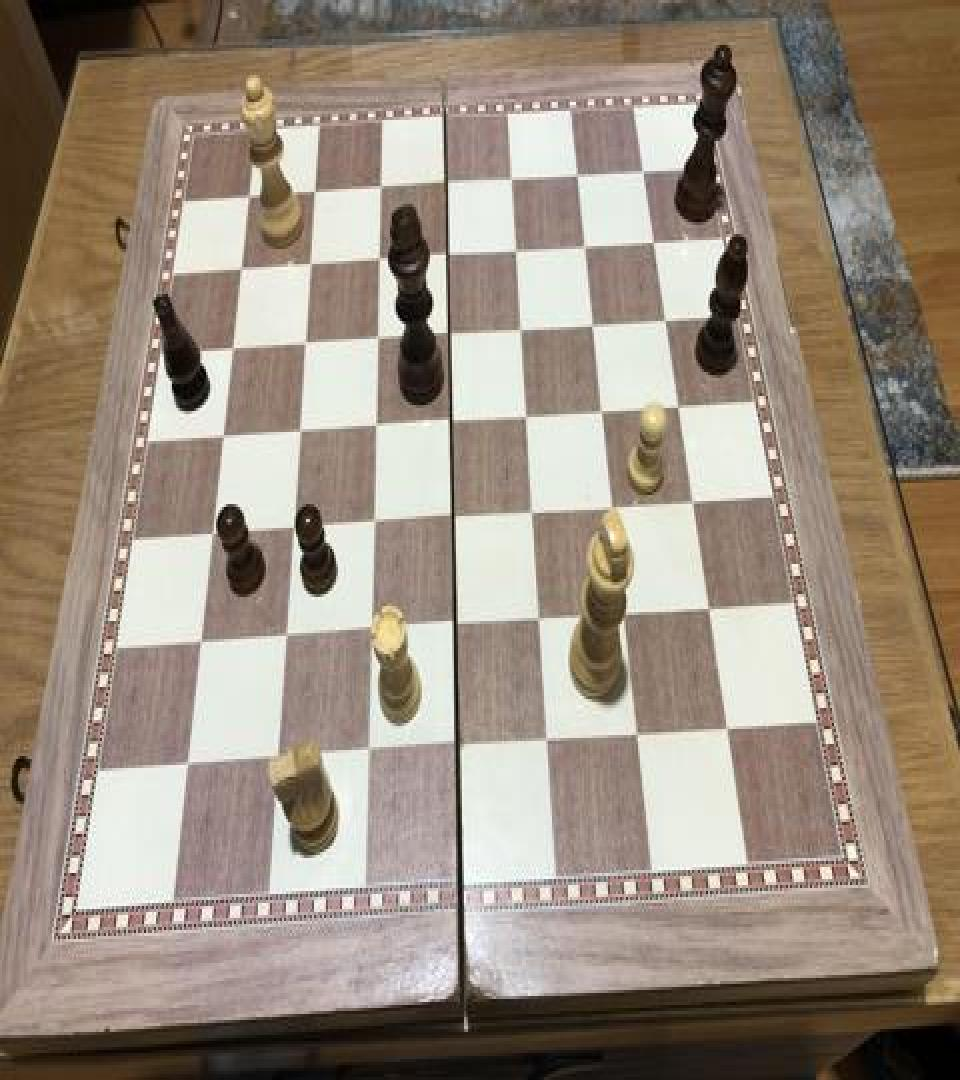xcorner: (445, 610, 469, 647), (360, 616, 384, 653), (275, 622, 299, 659), (268, 742, 292, 779), (634, 153, 658, 189), (568, 158, 592, 194), (502, 162, 526, 198), (436, 166, 460, 202), (370, 171, 394, 207), (304, 176, 328, 212), (237, 180, 261, 216), (645, 225, 669, 261), (576, 230, 600, 266), (507, 234, 531, 270), (438, 238, 462, 274), (368, 244, 392, 280), (299, 249, 323, 285), (229, 254, 253, 290), (657, 303, 681, 339), (584, 309, 608, 345), (512, 314, 536, 350), (439, 318, 463, 354), (367, 324, 391, 360), (221, 333, 245, 369), (669, 390, 693, 426), (593, 394, 617, 430), (517, 400, 541, 436), (441, 405, 465, 441), (365, 411, 389, 447), (288, 417, 312, 453), (212, 422, 236, 458), (683, 486, 707, 522), (603, 490, 627, 526), (523, 496, 547, 532), (443, 502, 467, 538), (363, 508, 387, 544), (282, 513, 306, 549), (202, 519, 226, 555), (699, 591, 723, 627), (615, 597, 639, 633), (530, 604, 554, 640), (190, 628, 214, 664), (717, 711, 741, 747), (627, 717, 651, 753), (537, 723, 561, 759), (448, 730, 472, 766), (358, 736, 382, 772), (177, 750, 201, 786), (294, 329, 318, 364)
